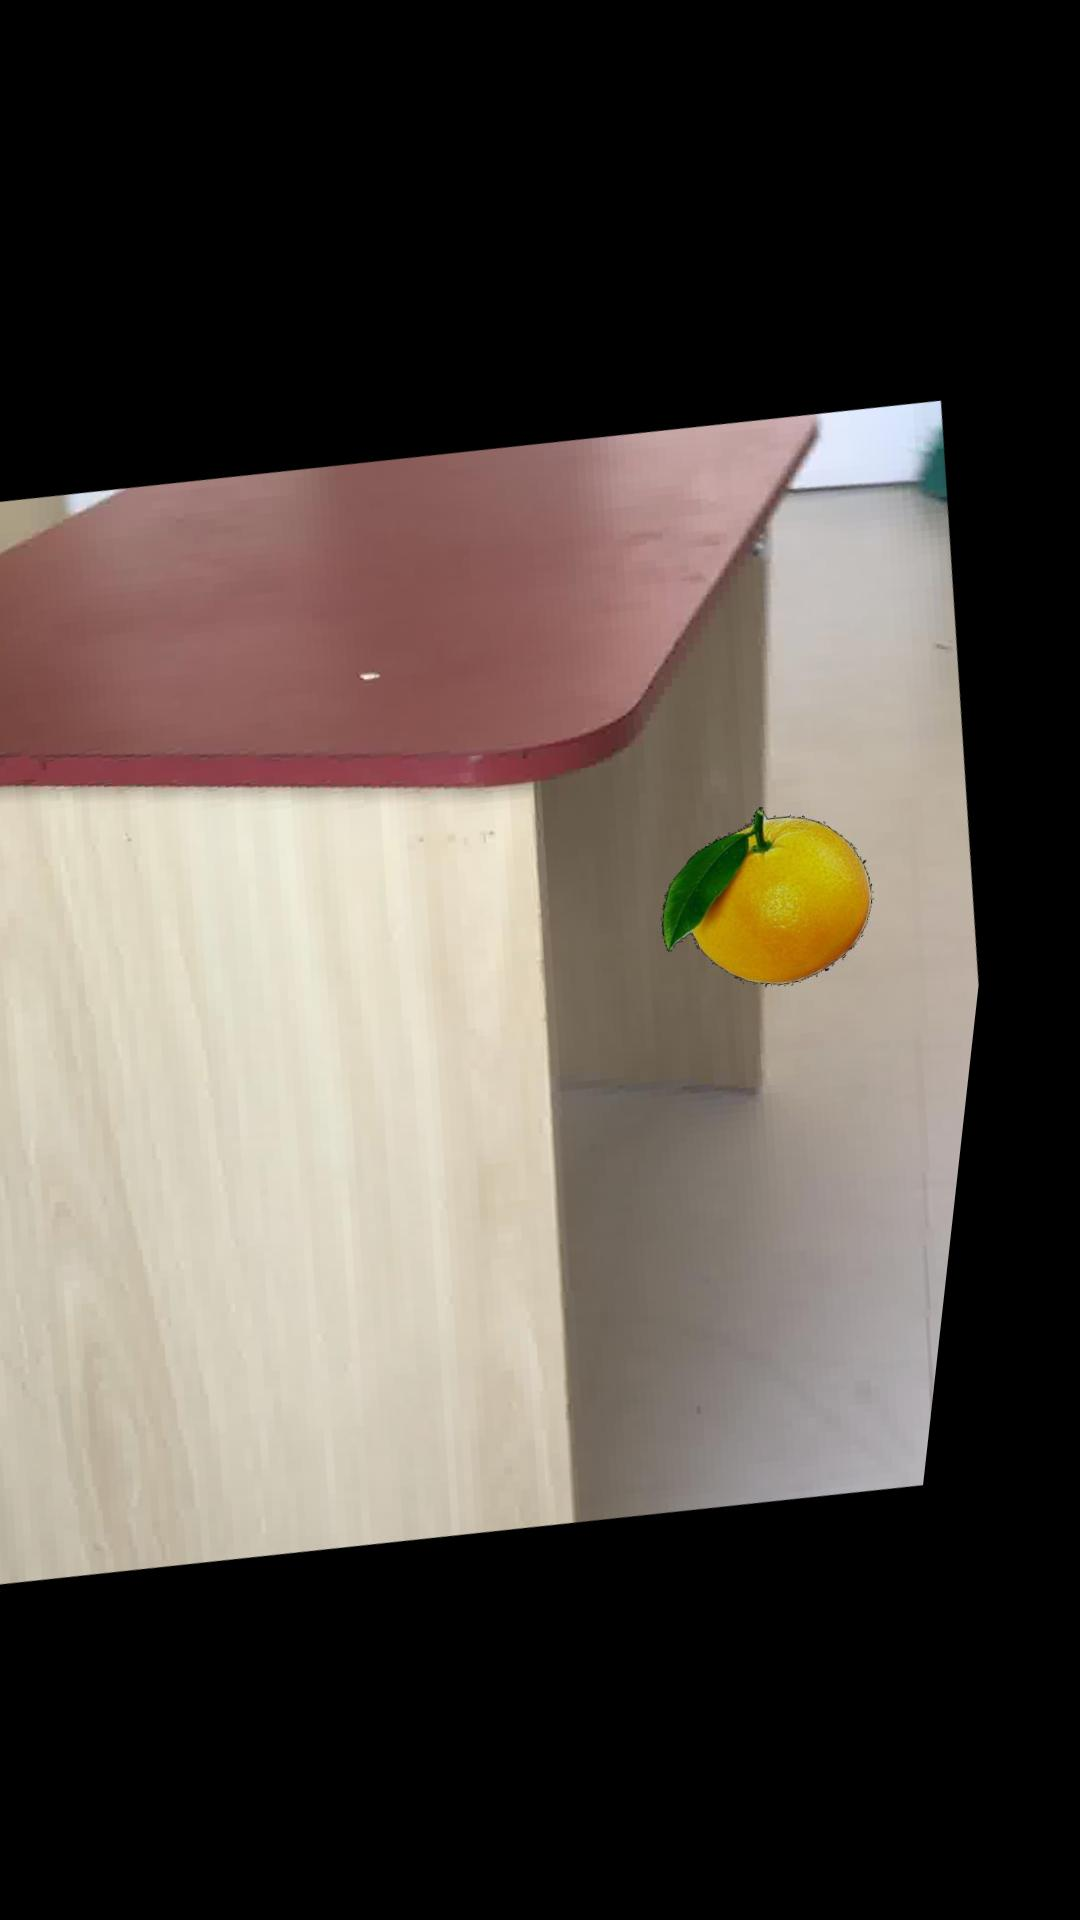orange: (683, 795, 894, 976)
